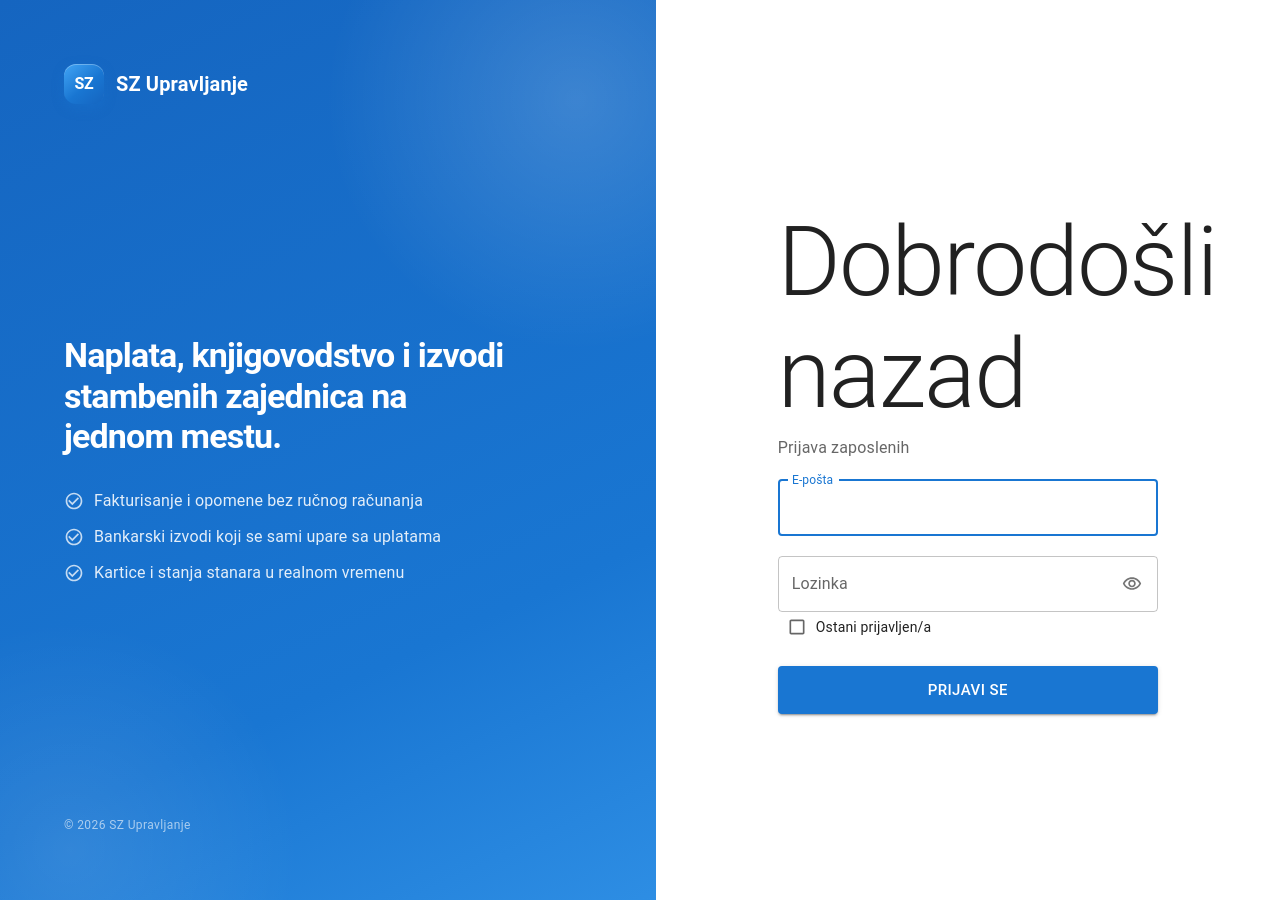
Test: LoginPage › validira podatke pre slanja
Click the button "Prijavi se". click: {"x": 968, "y": 690}
box: [778, 666, 1158, 714]
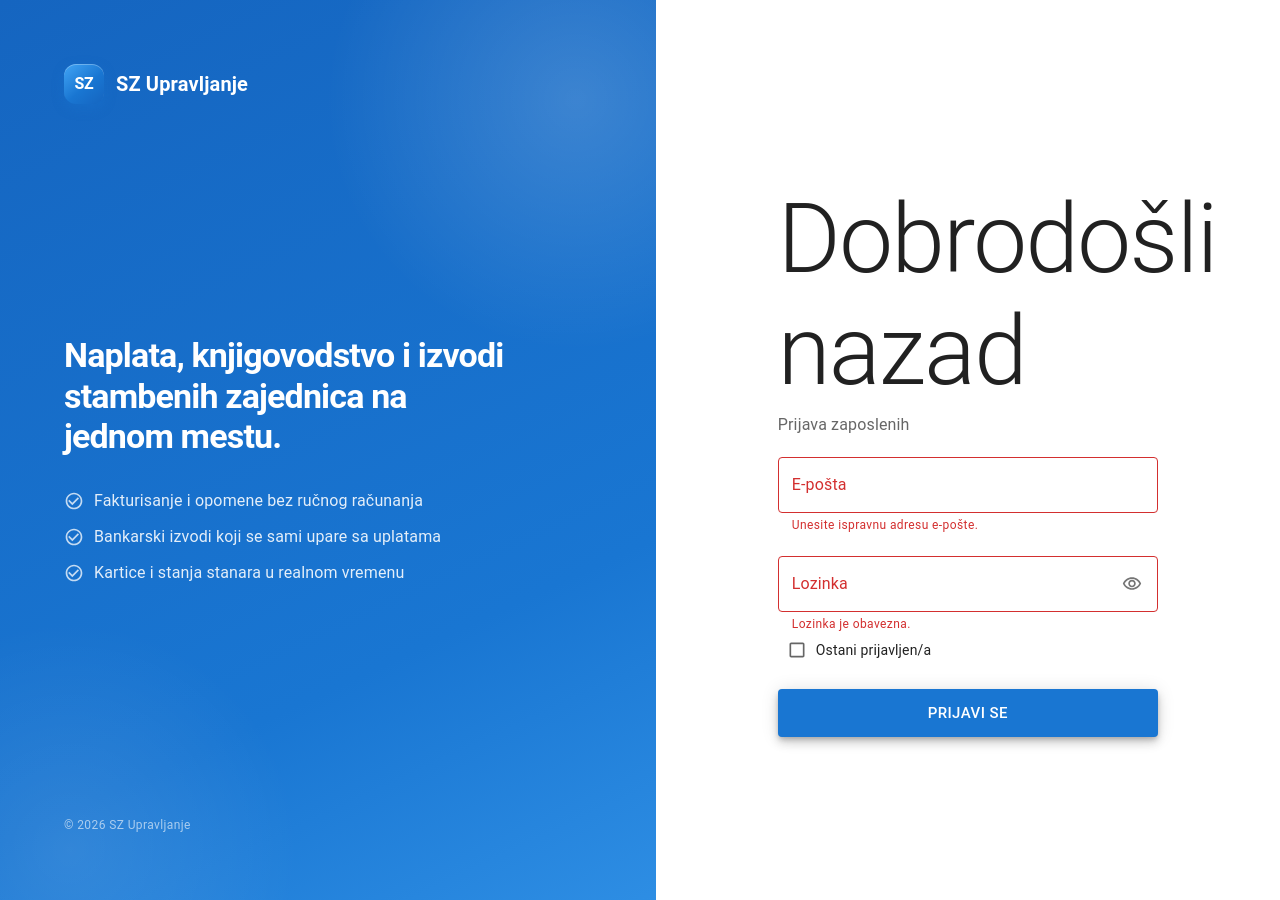
Expected: the text "Unesite ispravnu adresu e-pošte." is shown, [792, 518, 978, 532]
Expected: the text "Lozinka je obavezna." is shown, [792, 617, 911, 631]
